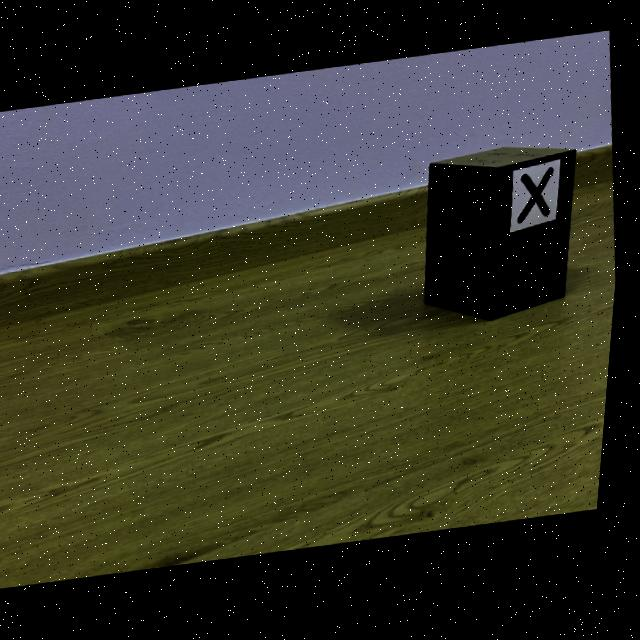X: (521, 171, 557, 226)
